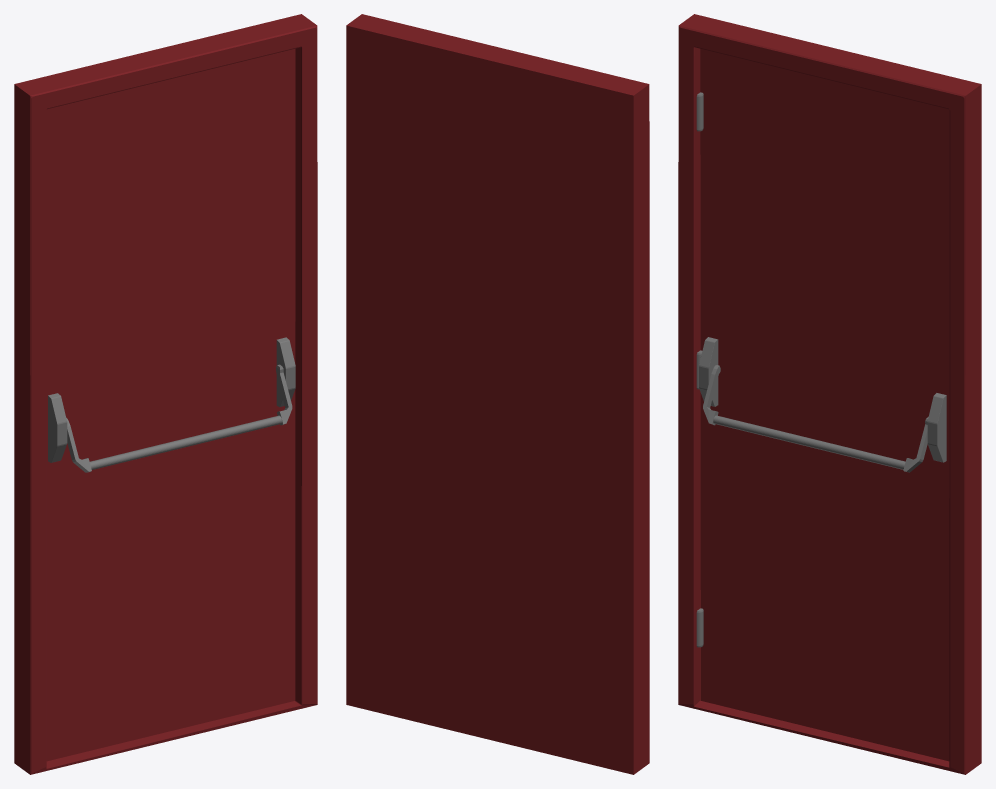
Rendered from firedoor.glb.
3 views of the same model, side by side, from view 1: azimuth 30°, elevation 25°; view 2: azimuth 150°, elevation 25°; view 3: azimuth 330°, elevation 25° (orthographic).
Visible parts, largest first — view 1: Cube, Cylinder, Cube.001, Cube.002; view 2: Cube; view 3: Cube, Cylinder, Cube.002, Cube.001.
Boxes of the visible parts, <box> form: Cube: <box>14,14,317,774</box>; Cylinder: <box>90,415,281,469</box>; Cube.001: <box>48,393,67,462</box>; Cube.002: <box>276,337,295,407</box>; Cube: <box>346,14,649,774</box>; Cube: <box>678,14,981,774</box>; Cylinder: <box>713,415,905,469</box>; Cube.002: <box>927,393,946,462</box>; Cube.001: <box>699,337,718,406</box>.
Bounding box in the file's own units: 1.01 × 2.29 × 0.1837.
